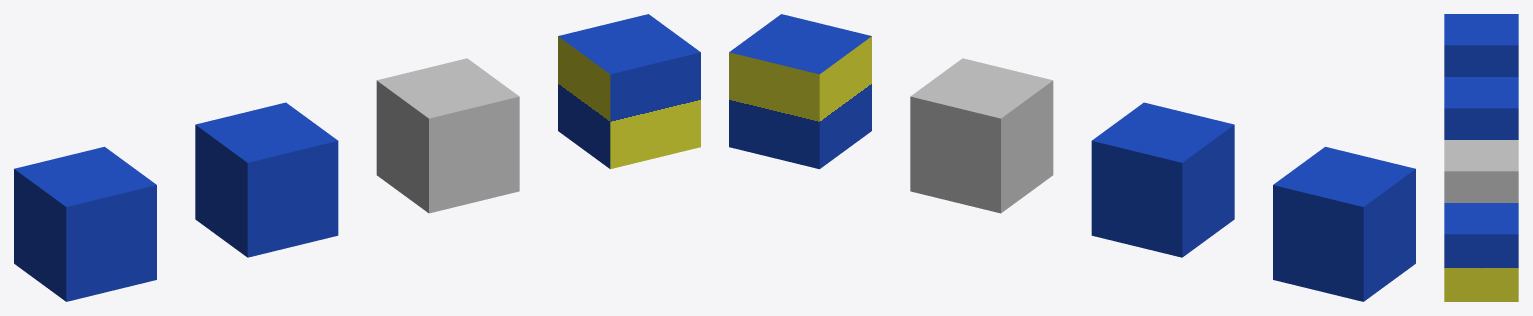
File: Search.fbx
The picture shows the model from 3 angles, left to right: view 1: azimuth 30°, elevation 25°; view 2: azimuth 150°, elevation 25°; view 3: azimuth 270°, elevation 25°; orthographic projection. The views are drawn at different scales.
Visible parts, largest first — view 1: Cube_Faraway, Cube_Up, Cube_Local, Cube_Twin; view 2: Cube_Faraway, Cube_Up, Cube_Local, Cube_Twin; view 3: Cube_Twin, Cube_Faraway, Cube_Local, Cube_Up.
Part boxes in pixels (x1,y1,x2,y2): Cube_Faraway: (376, 58, 519, 213); Cube_Up: (195, 102, 338, 257); Cube_Local: (14, 146, 156, 301); Cube_Twin: (558, 14, 700, 169); Cube_Faraway: (910, 58, 1053, 213); Cube_Up: (1091, 102, 1234, 257); Cube_Local: (1273, 146, 1415, 301); Cube_Twin: (729, 14, 871, 169); Cube_Twin: (1444, 203, 1518, 301); Cube_Faraway: (1444, 140, 1518, 202); Cube_Local: (1444, 14, 1518, 76); Cube_Up: (1444, 77, 1518, 139).
Size of the model in its own units: 700 by 100 by 100.
